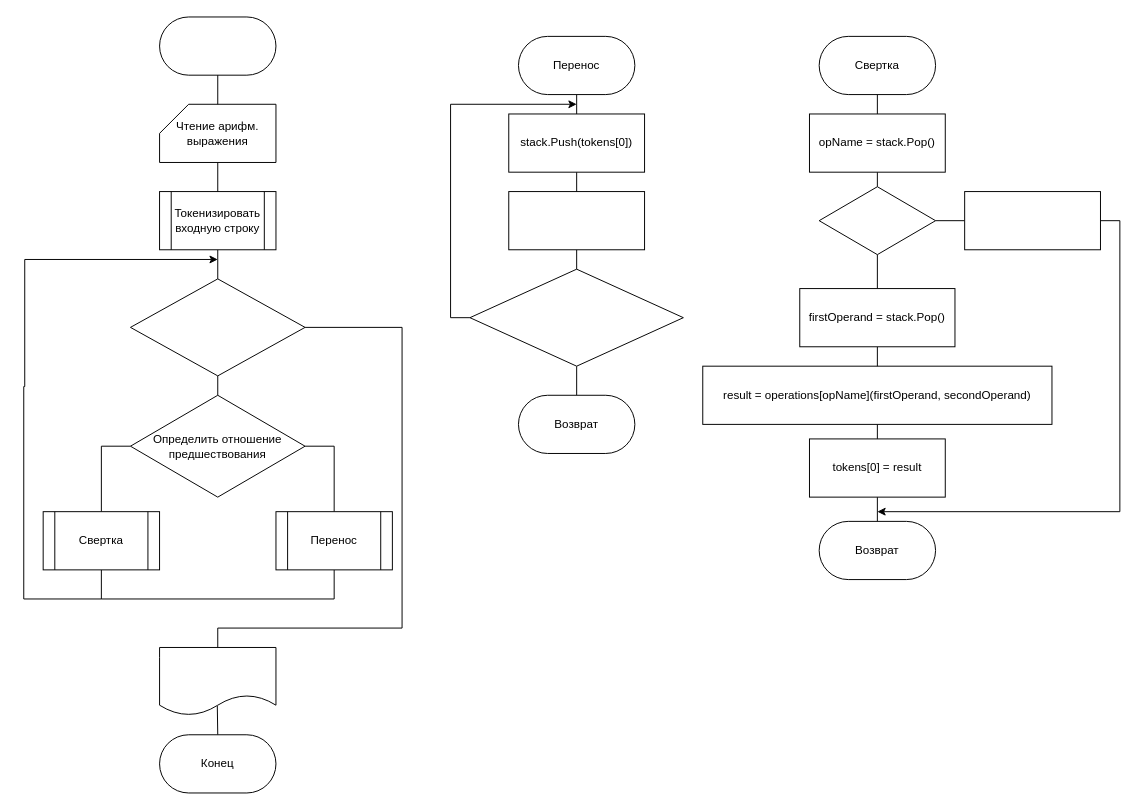
Image size: 1145x810. Some labels were removed from this diagram. The shapes that lost their labels are listed below. From the top down, each one's centre as x and y in pixels, then its label:
(x=217, y=45): Начало
(x=576, y=220): tokens.RemoveAt(0)
(x=877, y=220): opName == "("
(x=1032, y=220): tokens.RemoveAt(1)
(x=217, y=327): stack.Count > 1 && tokens.Count > 2
(x=576, y=317): !validOperations.Contains(token)
(x=217, y=681): tokens[0]
